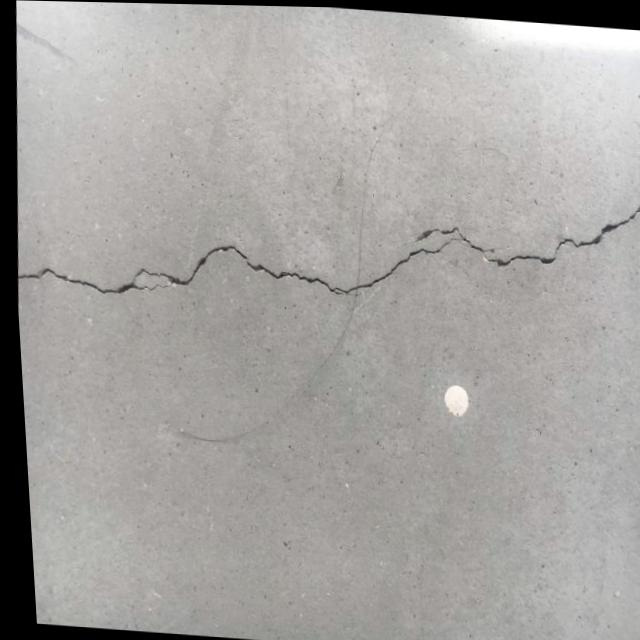Crack: (409, 170, 640, 351), (219, 202, 422, 366), (10, 204, 232, 353)
